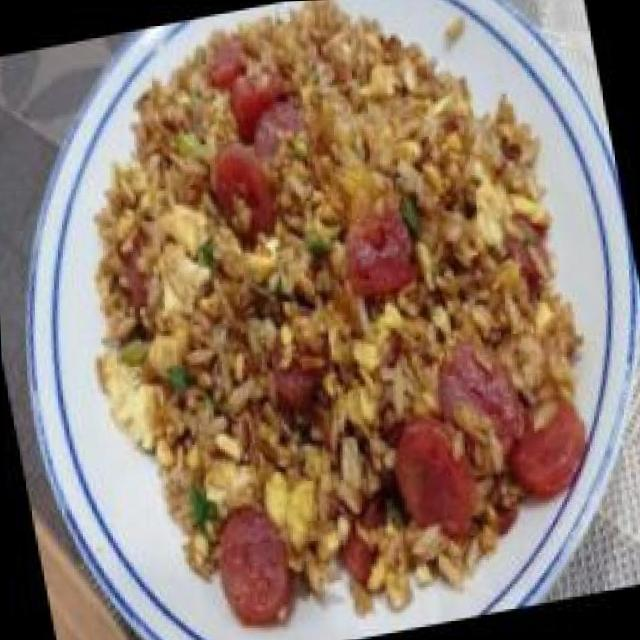chinese_sausage: (386, 407, 480, 545), (204, 503, 301, 624), (436, 335, 528, 456), (333, 196, 432, 302), (502, 393, 599, 501), (211, 136, 278, 248)
